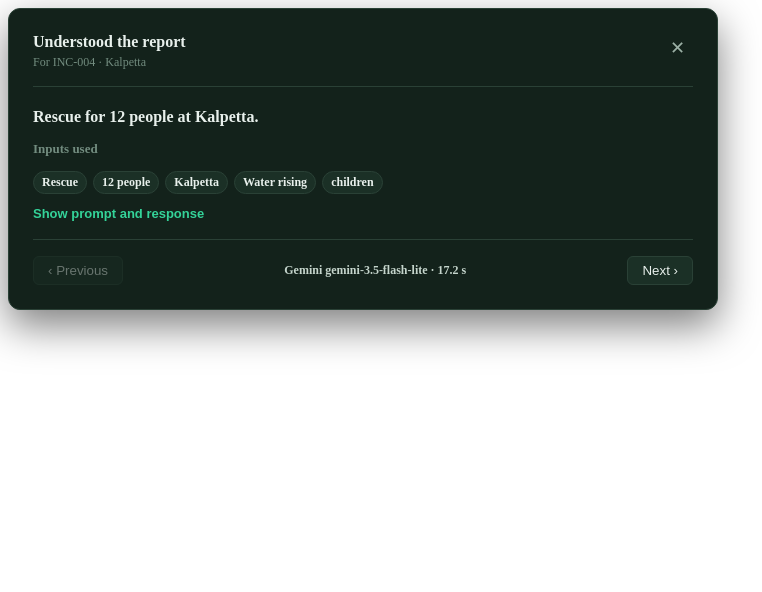
it: StepDetailDialogComponent › says what Gemini understood, then hides the prompt until asked
Click the button with test id "show-prompt" at (119, 214), box [33, 206, 204, 221]
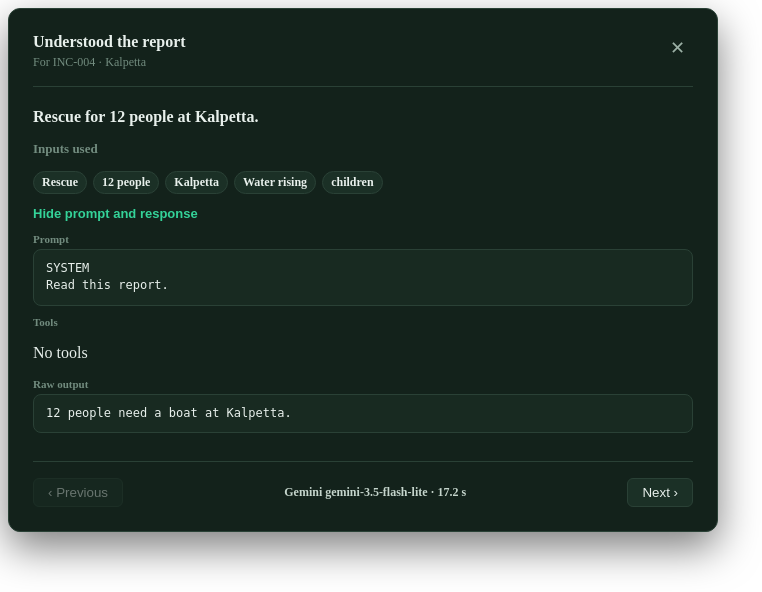
Now the element with test id "prompt-and-response" shows "Read this report.", box [46, 261, 169, 292]
Now the text with test id "step-tools" reads "No tools", box [33, 344, 88, 361]
Now the element with test id "prompt-and-response" shows "12 people need a boat", box [46, 406, 292, 420]
